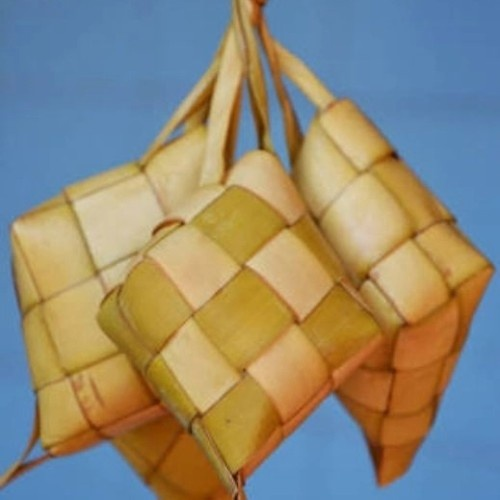ketupat: (93, 146, 384, 485)
